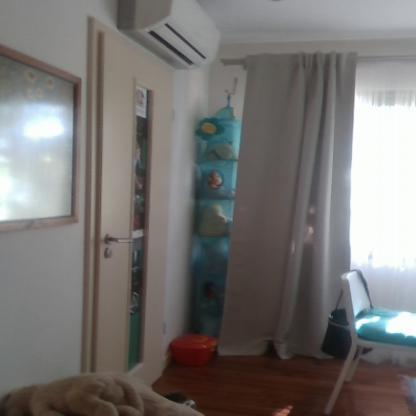door: (100, 33, 171, 388)
hinged: (172, 110, 176, 124), (163, 323, 167, 335)
lever: (109, 235, 137, 244)
